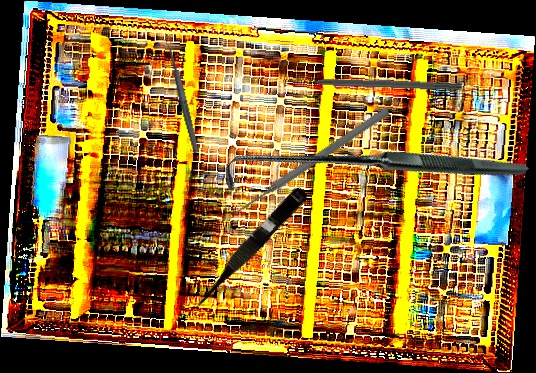Hook Surgical: (216, 16, 530, 330), (291, 75, 463, 91)
Micro Scissor: (185, 183, 310, 315)
Pusher: (231, 105, 391, 219)
Surgical Spoon: (163, 34, 201, 155)
